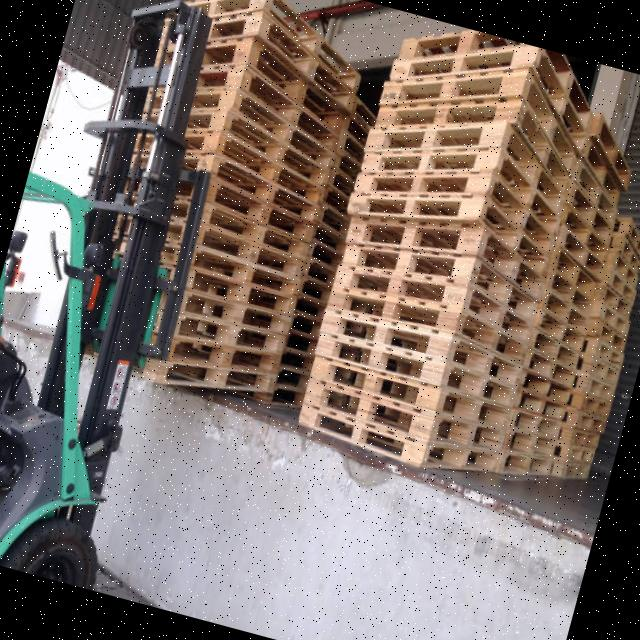Wooden-Pallets: (357, 116, 577, 228), (379, 49, 590, 160), (311, 297, 530, 391), (285, 390, 502, 483), (225, 57, 343, 159), (249, 0, 367, 97), (187, 229, 302, 304), (148, 353, 280, 401)
